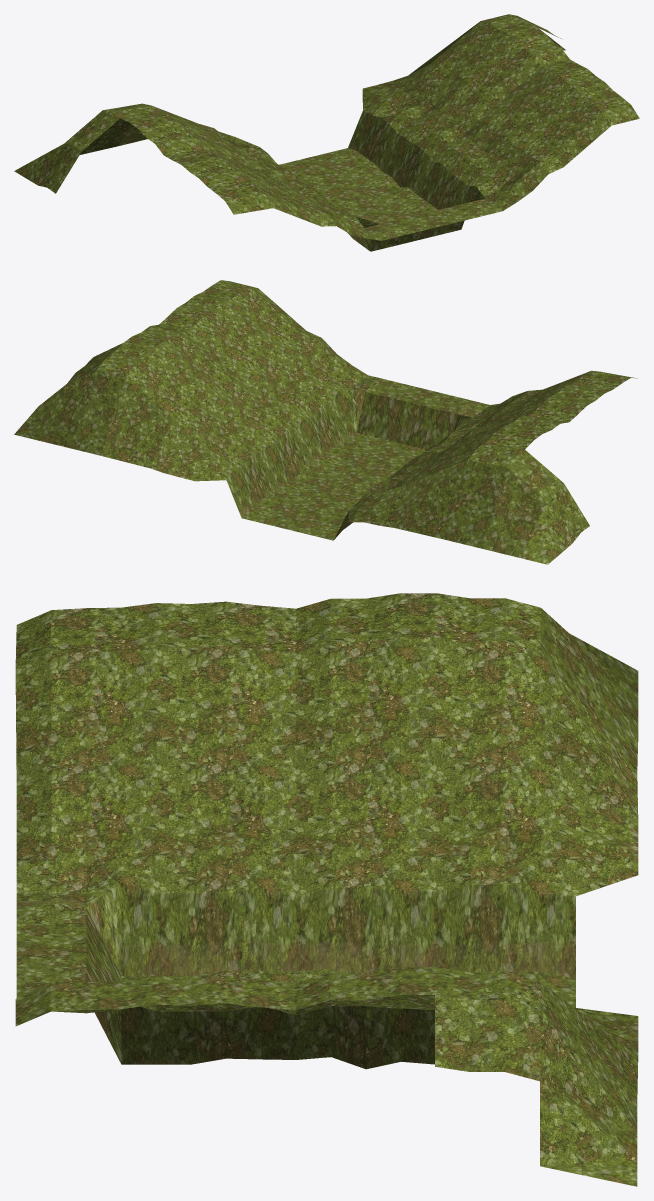
The model's file is WaterLandscapeEnd.glb.
3 renders of one model, top to bottom at view 1: azimuth 30°, elevation 25°; view 2: azimuth 150°, elevation 25°; view 3: azimuth 270°, elevation 25°, orthographic. The views are drawn at different scales.
Parts seen in each view (by area): view 1: Plane.002; view 2: Plane.002; view 3: Plane.002.
Part boxes in pixels (bbox=[...]): Plane.002: bbox=[14, 14, 639, 251]; Plane.002: bbox=[14, 280, 637, 564]; Plane.002: bbox=[15, 593, 638, 1186].
Bounding box in the file's own units: 32.58 × 6.73 × 16.64.
1 material, 1 textured.
